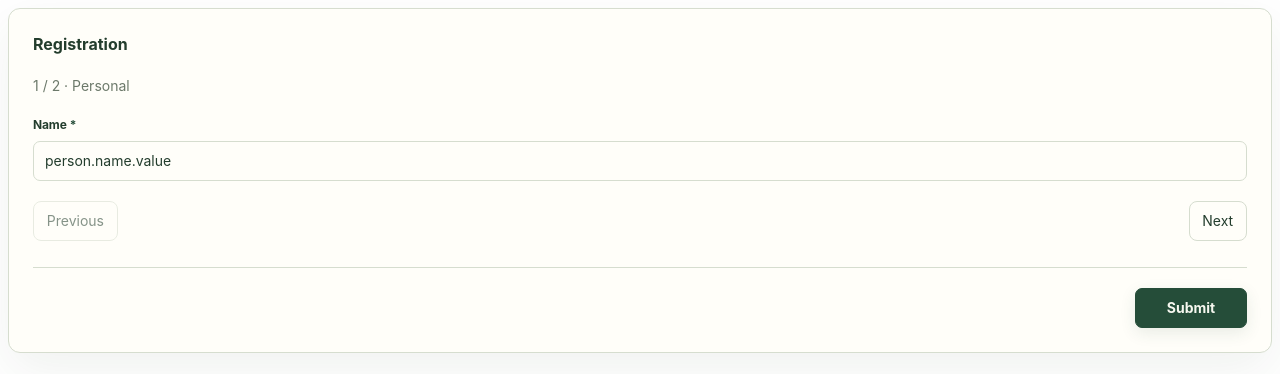
Test: groups › keeps navigation independent of validation and never submits from Next
Click the button "Next": (1218, 221) top-left (1188, 201), bottom-right (1247, 241)
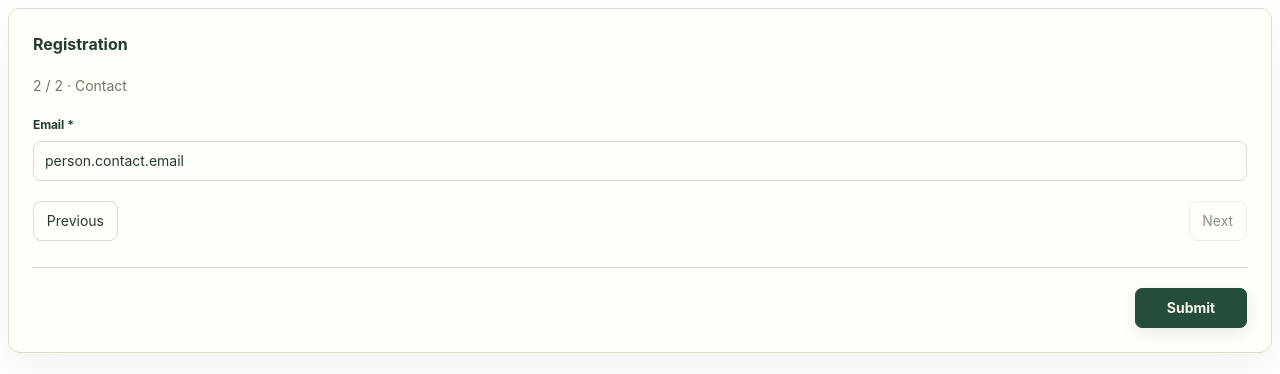
Expected: the field labelled "Email *" is shown, top-left (33, 141), bottom-right (1247, 181)
